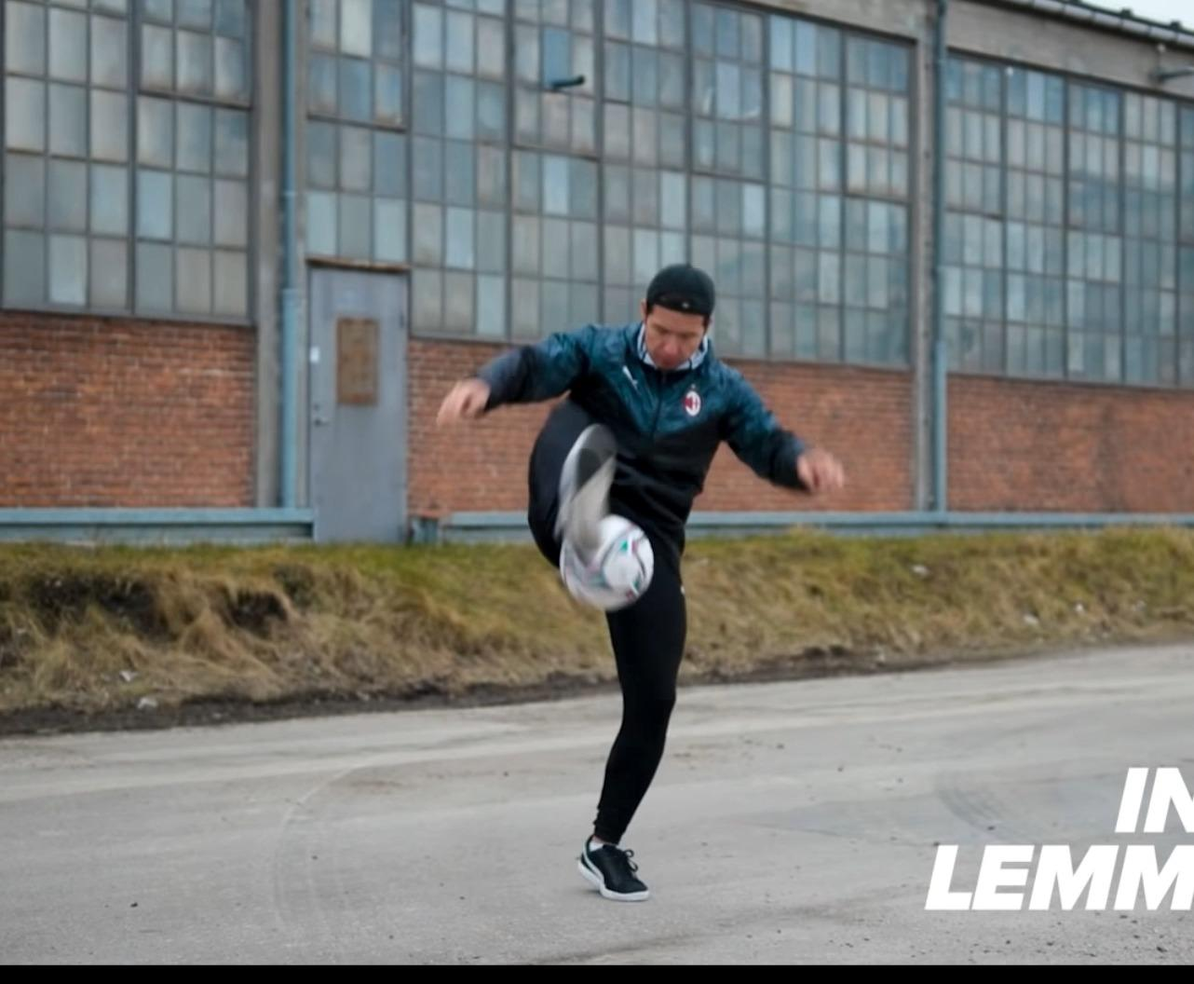ball: (563, 518, 652, 608)
foot: (561, 425, 613, 545), (576, 829, 653, 902)
person: (438, 263, 843, 905)
